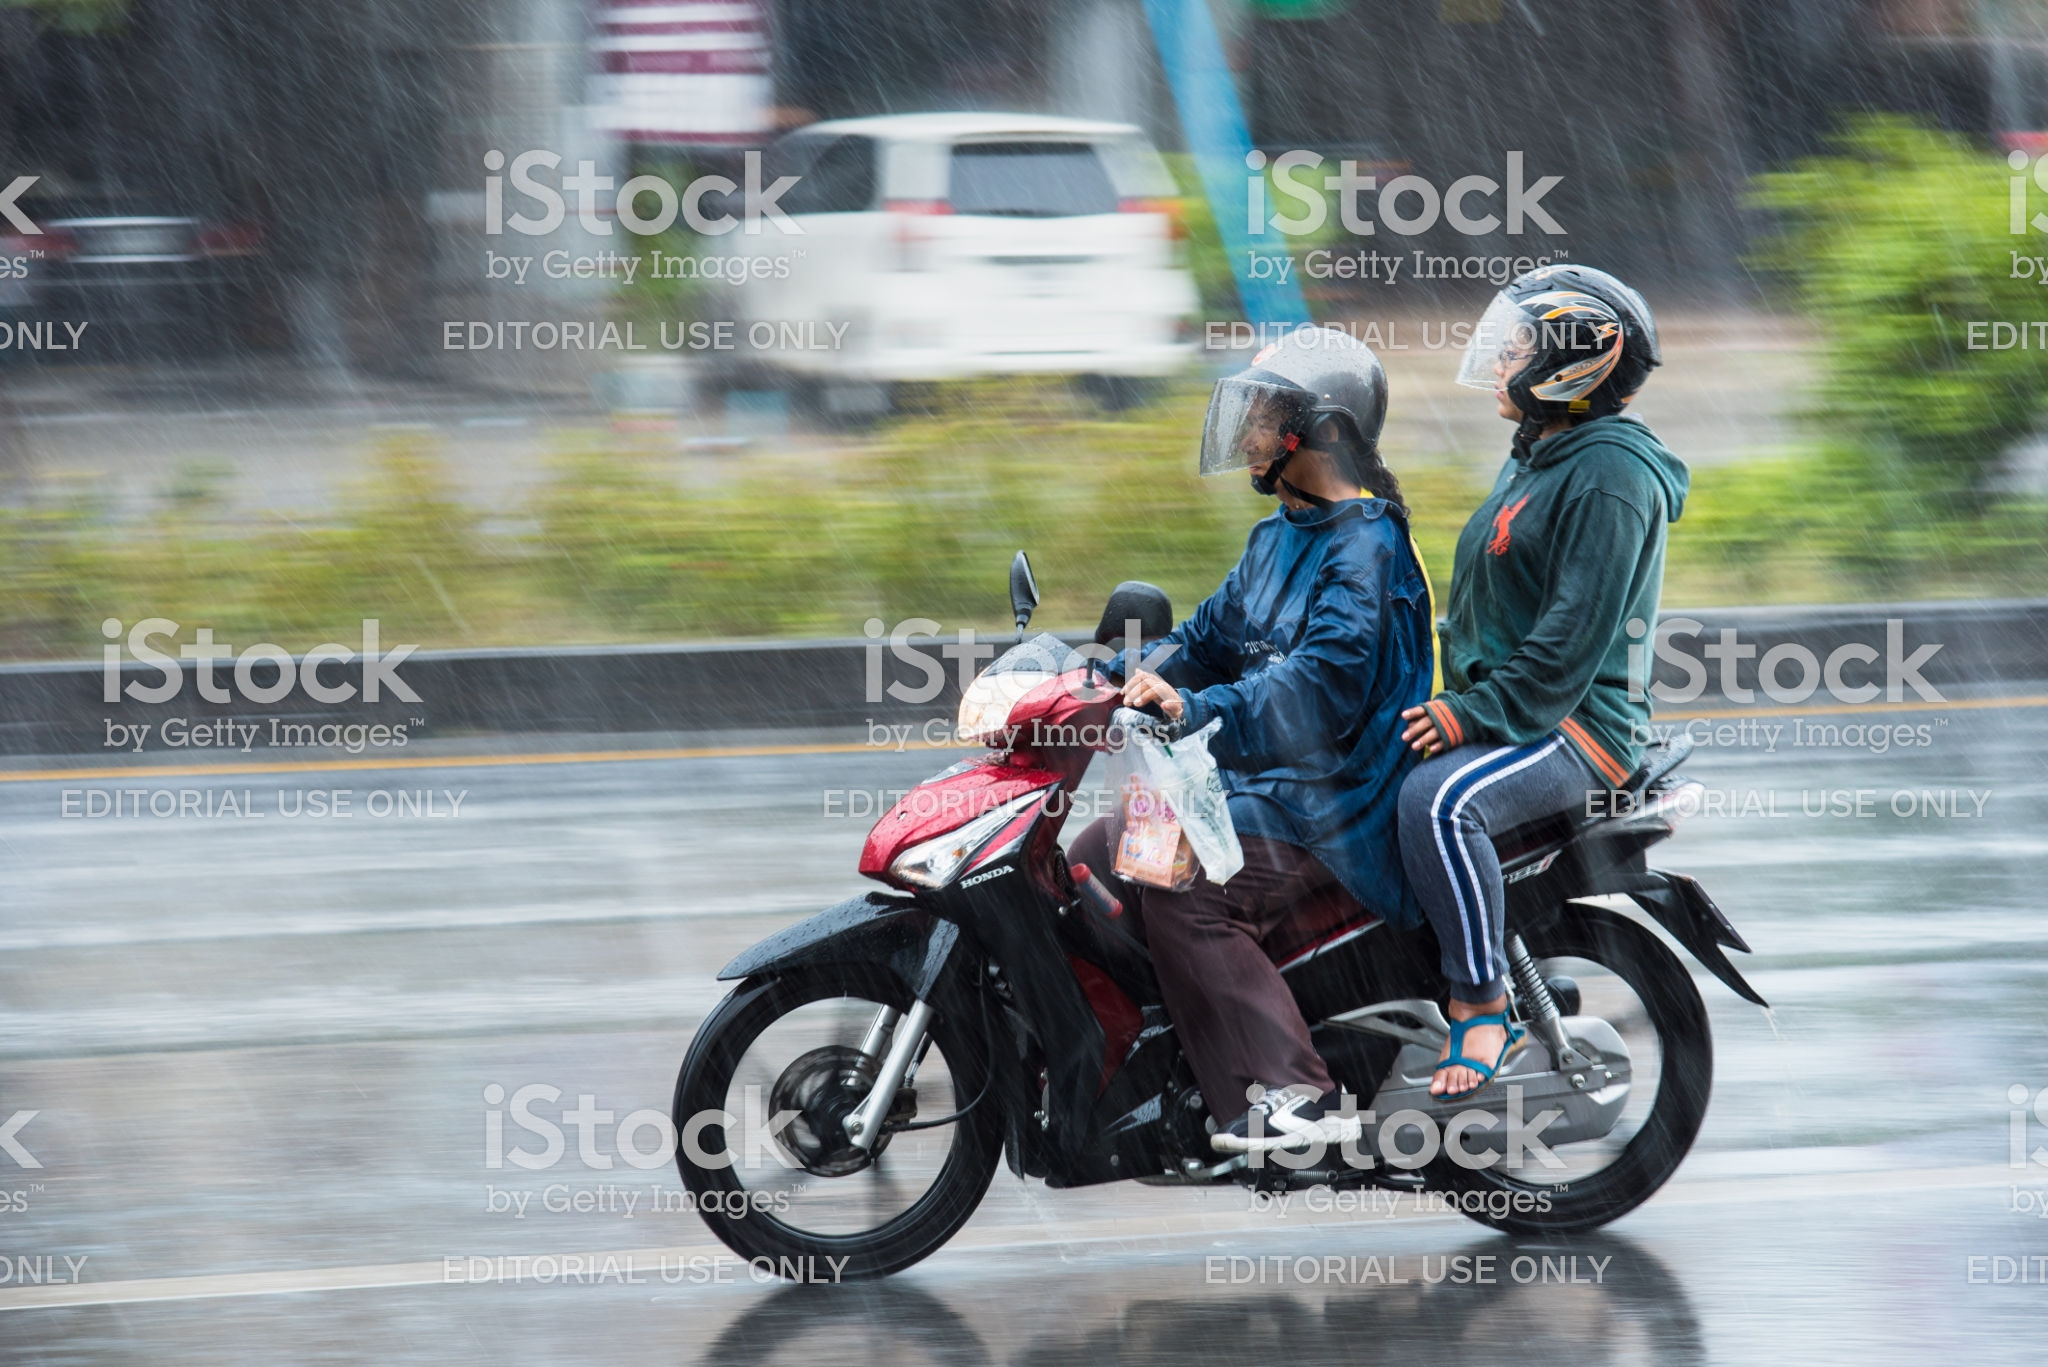helmet: (1469, 256, 1673, 420), (1200, 317, 1375, 470)
